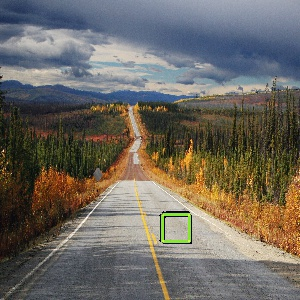square: (159, 208, 194, 244)
